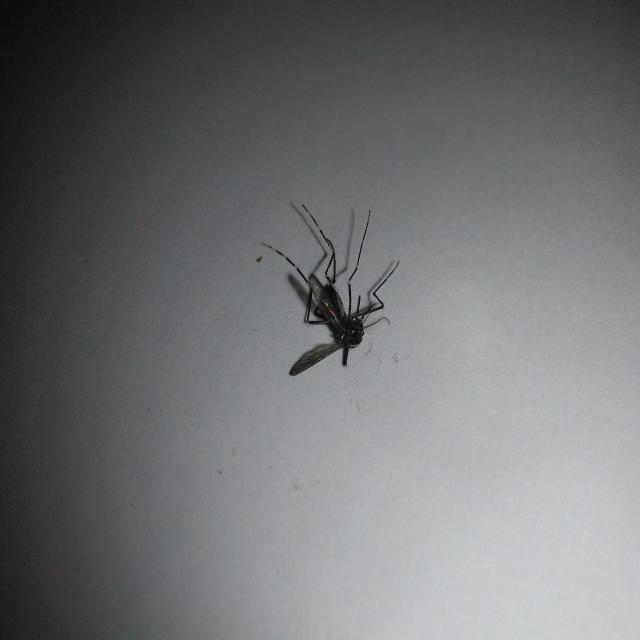albopictus: (252, 187, 402, 381)
